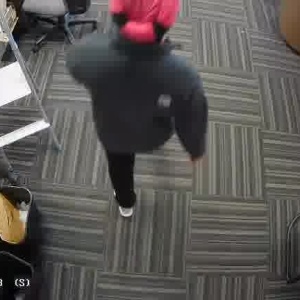person: (78, 0, 214, 208)
